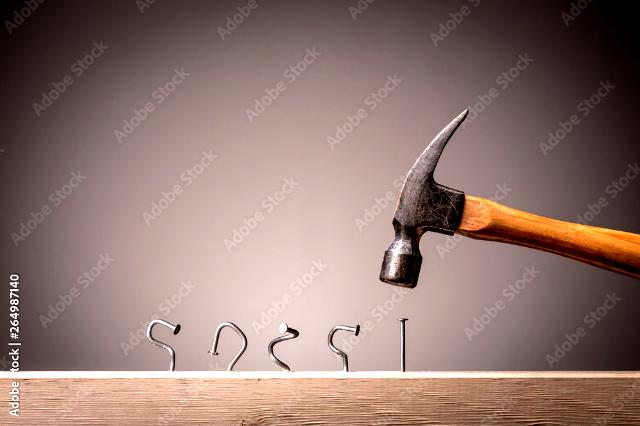hammer: (374, 104, 640, 294)
